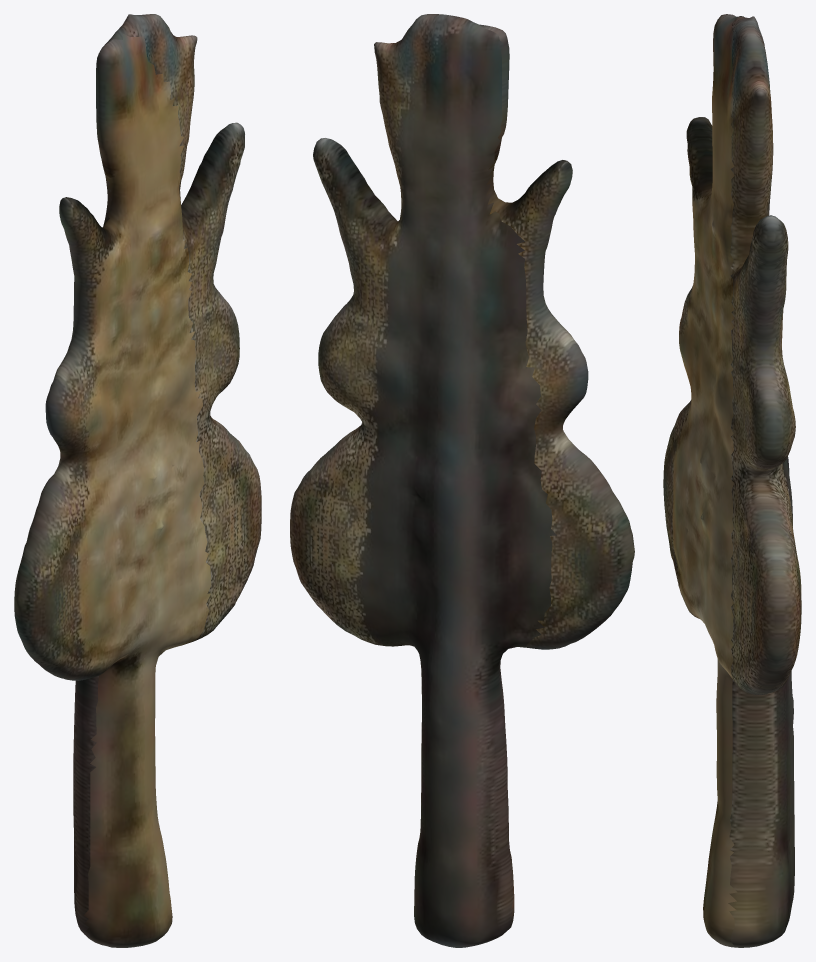
Rendered from kfl-2298.glb.
3 renders of one model, left to right at view 1: azimuth 30°, elevation 25°; view 2: azimuth 150°, elevation 25°; view 3: azimuth 270°, elevation 25°, orthographic.
Parts seen in each view (by area): view 1: geometry_0; view 2: geometry_0; view 3: geometry_0.
Boxes of the visible parts, x1,y1,x2,y2 form: geometry_0: (14, 14, 261, 947); geometry_0: (290, 14, 634, 947); geometry_0: (663, 14, 801, 947).
Bounding box in the file's own units: 0.329 × 0.9942 × 0.1344.
Materials: 1 (1 with a texture image).
